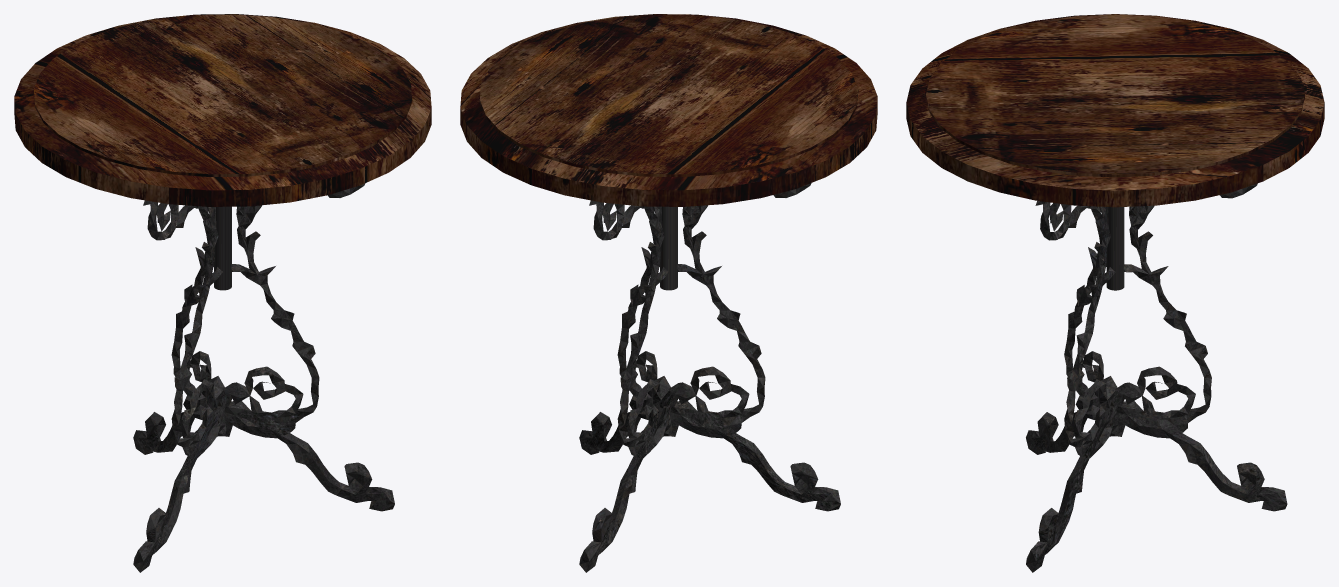
Rendered from londonTable.glb.
3 renders of one model, left to right at view 1: azimuth 30°, elevation 25°; view 2: azimuth 150°, elevation 25°; view 3: azimuth 270°, elevation 25°, orthographic.
Parts seen in each view (by area): view 1: Cylinder; view 2: Cylinder; view 3: Cylinder.
Boxes of the visible parts, x1,y1,x2,y2 form: Cylinder: (14,14,431,572); Cylinder: (460,14,877,572); Cylinder: (906,14,1324,572).
Size of the model in its own units: 1.18 by 1.29 by 1.18.
2 materials, 2 textured.
